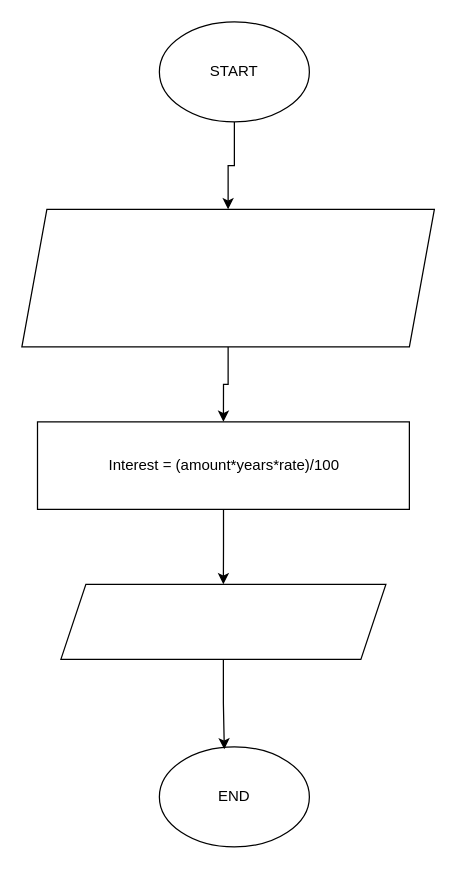
This 456x869 diagram has some shape labels left out. The shapes that lost their labels are listed below. From the top down, each one's centre as x and y in pixels, then its label:
At pixel 227 277: "INPUT rate ,years ,amount".
At pixel 223 621: "PRINT Interest".
